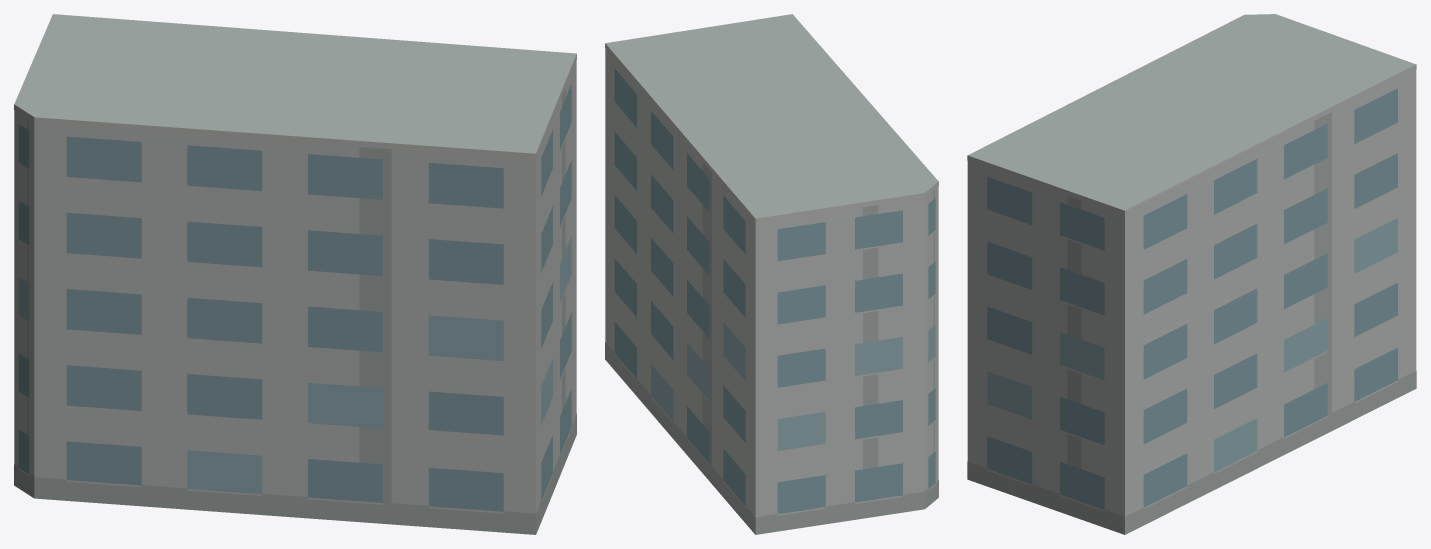
File: survey-upis-32679189.glb
3 renders of one model, left to right at view 1: azimuth 30°, elevation 25°; view 2: azimuth 150°, elevation 25°; view 3: azimuth 270°, elevation 25°, orthographic. The views are drawn at different scales.
Parts seen in each view (by area): view 1: survey-upis-32679189.tmp; view 2: survey-upis-32679189.tmp; view 3: survey-upis-32679189.tmp.
Boxes of the visible parts, left/top/right/bottom form: survey-upis-32679189.tmp: left=14, top=14, right=576, bottom=534; survey-upis-32679189.tmp: left=605, top=14, right=938, bottom=534; survey-upis-32679189.tmp: left=967, top=14, right=1416, bottom=534.
Bounding box in the file's own units: 20.11 × 15.45 × 19.4.
